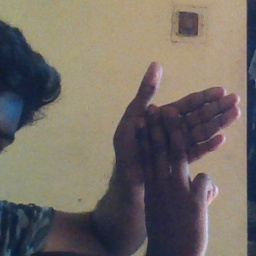M: (110, 59, 242, 228)
